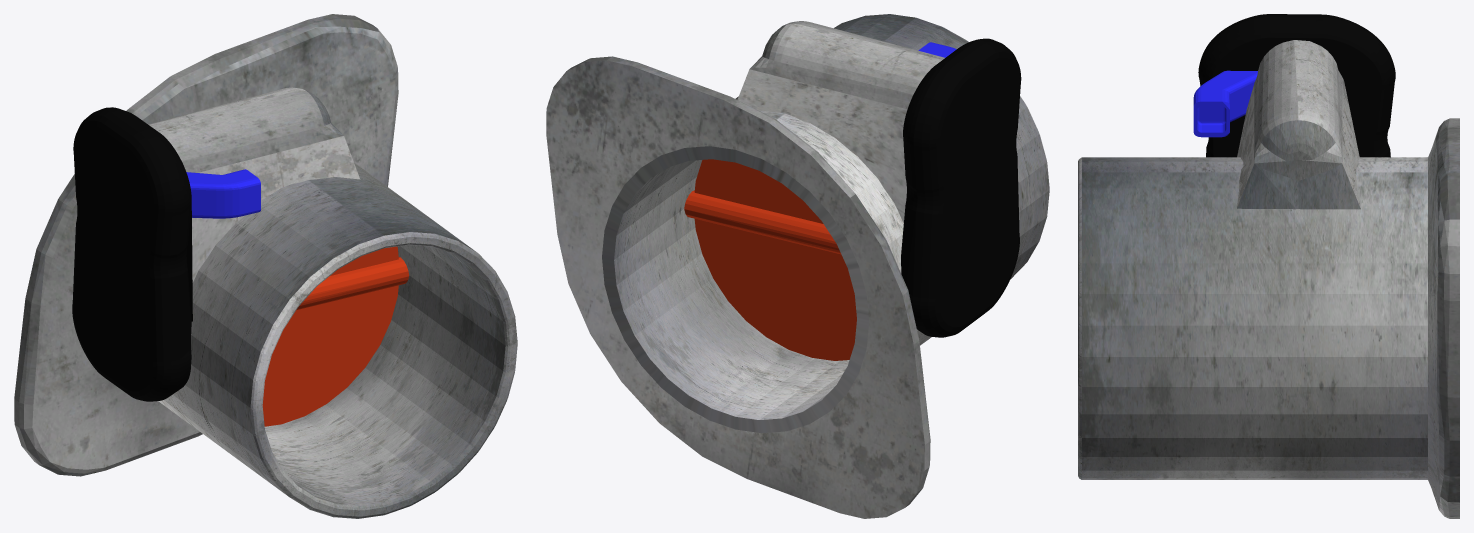
Rendered from throttle_body.obj.
The picture shows the model from 3 angles, left to right: view 1: azimuth 30°, elevation 25°; view 2: azimuth 150°, elevation 25°; view 3: azimuth 270°, elevation 25°; orthographic projection. The views are drawn at different scales.
Visible parts, largest first — view 1: Main-Cylinder_Cylinder, Flange_Plane.002, Sensor_Plane.006, Control-Motor_Cube, Butterfly-Valve_Cylinder.003, Plug.012_Cube.001; view 2: Flange_Plane.002, Main-Cylinder_Cylinder, Sensor_Plane.006, Butterfly-Valve_Cylinder.003, Control-Motor_Cube; view 3: Main-Cylinder_Cylinder, Control-Motor_Cube, Flange_Plane.002, Sensor_Plane.006, Plug.012_Cube.001.
Boxes of the visible parts, x1,y1,x2,y2 form: Main-Cylinder_Cylinder: (158, 162, 517, 518); Flange_Plane.002: (14, 14, 398, 476); Sensor_Plane.006: (72, 107, 192, 401); Control-Motor_Cube: (148, 87, 360, 282); Butterfly-Valve_Cylinder.003: (262, 246, 409, 426); Plug.012_Cube.001: (186, 169, 260, 218); Flange_Plane.002: (546, 56, 930, 518); Main-Cylinder_Cylinder: (602, 14, 1049, 433); Sensor_Plane.006: (901, 38, 1021, 337); Butterfly-Valve_Cylinder.003: (684, 159, 856, 360); Control-Motor_Cube: (737, 21, 944, 222); Main-Cylinder_Cylinder: (1078, 157, 1427, 479); Control-Motor_Cube: (1237, 40, 1360, 209); Flange_Plane.002: (1428, 118, 1459, 518); Sensor_Plane.006: (1198, 14, 1395, 157); Plug.012_Cube.001: (1193, 70, 1257, 137).
Size of the model in its own units: 0.0468 by 0.0489 by 0.039.
